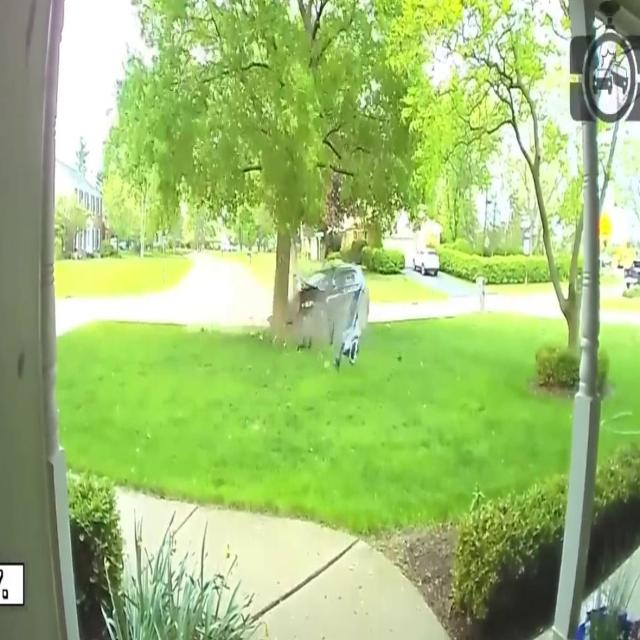accident: (268, 249, 381, 370)
